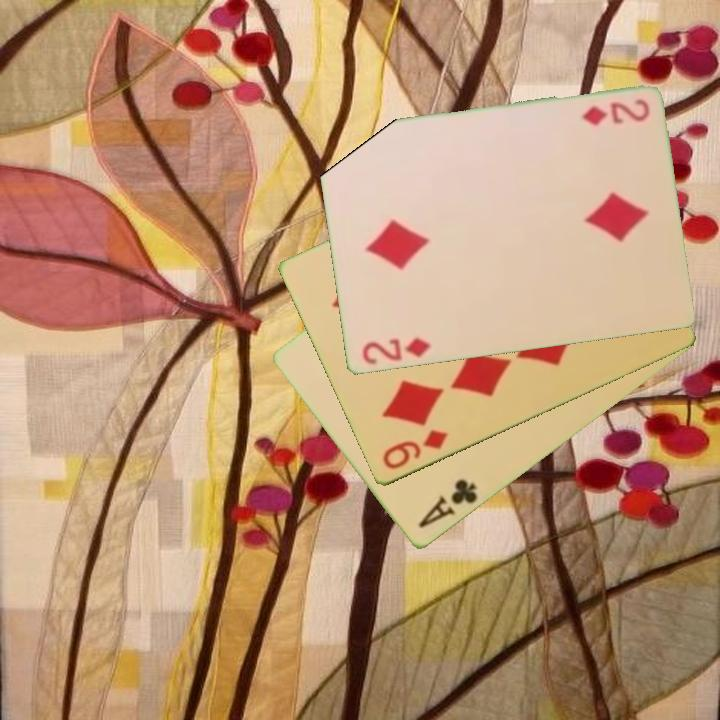2d: (358, 334, 434, 368), (578, 96, 652, 129)
9d: (378, 426, 451, 473)
Ac: (415, 476, 480, 532)
